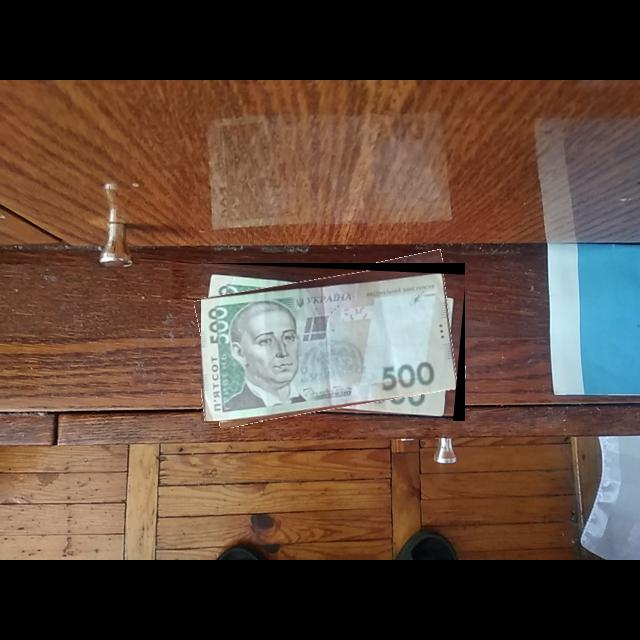500uah: (201, 272, 458, 422)
